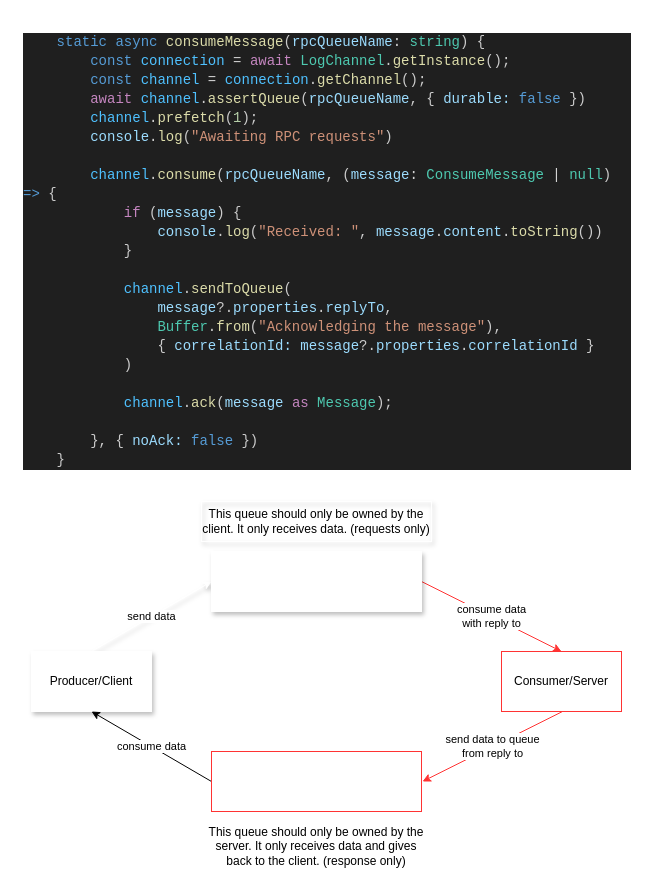
The diagram is 654 pixels wide and 888 high, and some of its shapes have lost their labels. Here are the shapes that lost their labels. From the top down, the centre of each, then its label:
the point at 317,582: rpc_queue
the point at 316,781: { replyTo : queue . queue , correlationId }
